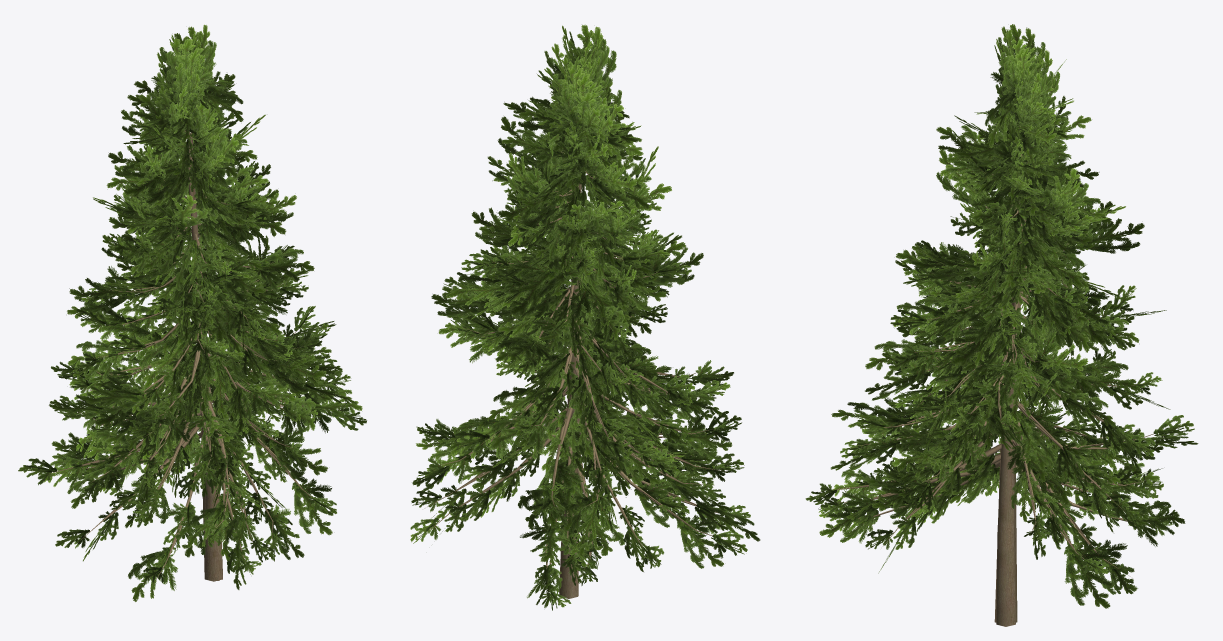
The model's file is tree_spruce_tall.glb.
The picture shows the model from 3 angles, left to right: view 1: azimuth 30°, elevation 25°; view 2: azimuth 150°, elevation 25°; view 3: azimuth 270°, elevation 25°; orthographic projection. The views are drawn at different scales.
Parts seen in each view (by area): view 1: LOD1_leaves, LOD0_leaves, LOD0_trunk, LOD1_trunk; view 2: LOD1_leaves, LOD0_leaves, LOD0_trunk, LOD1_trunk; view 3: LOD1_leaves, LOD0_leaves, LOD0_trunk, LOD1_trunk.
Boxes of the visible parts, x1,y1,x2,y2 form: LOD1_leaves: (43,24,362,601); LOD0_leaves: (18,53,366,582); LOD0_trunk: (51,130,342,584); LOD1_trunk: (61,131,343,580); LOD1_leaves: (415,24,760,607); LOD0_leaves: (410,49,750,610); LOD0_trunk: (424,152,725,598); LOD1_trunk: (437,171,714,598); LOD1_leaves: (819,24,1198,608); LOD0_leaves: (805,54,1194,594); LOD0_trunk: (820,154,1166,626); LOD1_trunk: (837,126,1136,622).
Size of the model in its own units: 10.02 by 17.62 by 11.13.
Materials: 2 (2 with a texture image).
